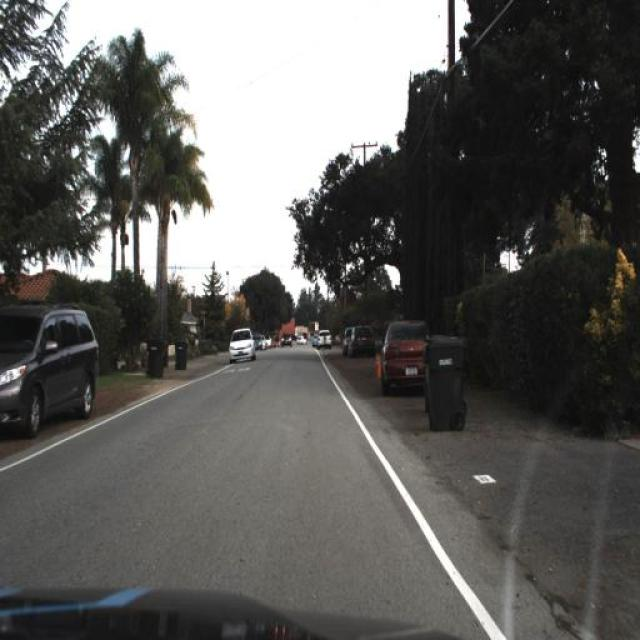car: (0, 297, 96, 443), (376, 317, 435, 391), (382, 317, 432, 399), (227, 327, 255, 365), (227, 327, 254, 359), (318, 328, 332, 353)
